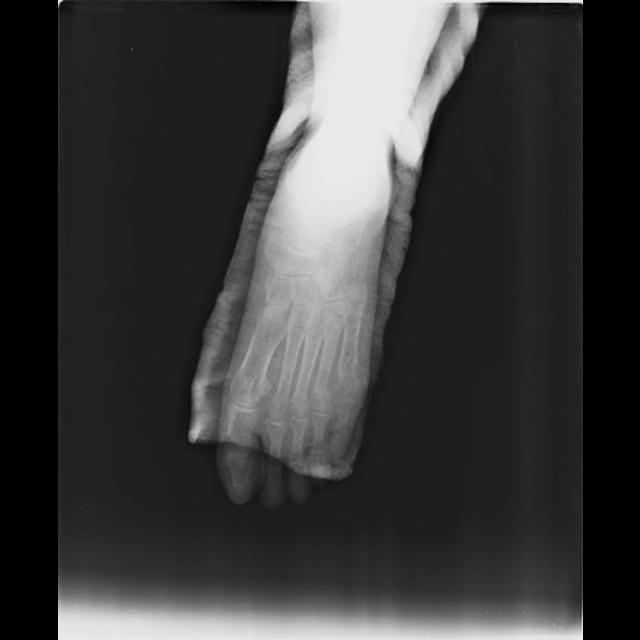Fracture: (335, 363, 363, 412)
